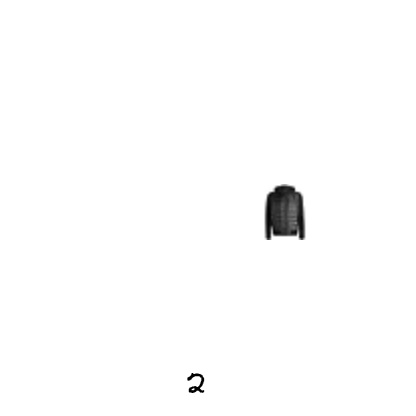2: (182, 369, 210, 397)
Coat: (257, 184, 313, 240)
